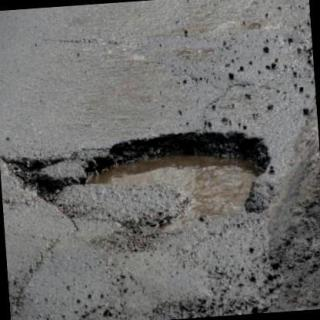pothole: (0, 132, 270, 217)
